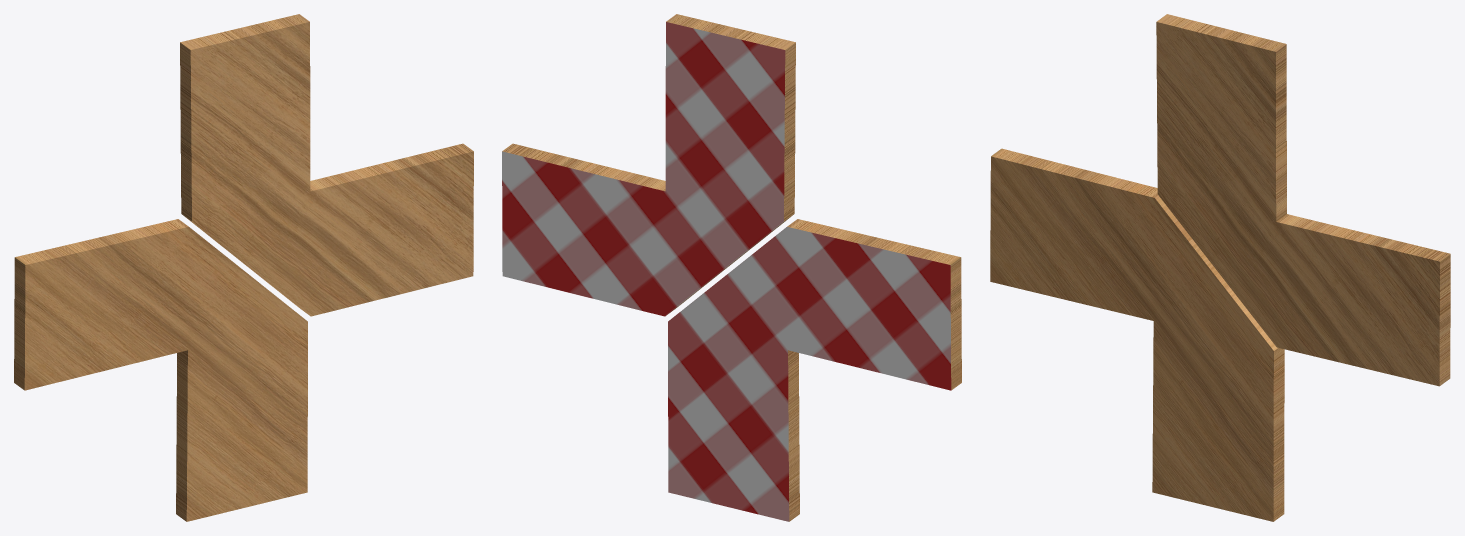
The model's file is crosspiece2.fbx.
3 views of the same model, side by side, from view 1: azimuth 30°, elevation 25°; view 2: azimuth 150°, elevation 25°; view 3: azimuth 330°, elevation 25° (orthographic).
Parts seen in each view (by area): view 1: Circle.003, Circle.004; view 2: Circle.003, Circle.004; view 3: Circle.004, Circle.003.
Boxes of the visible parts, box(x1,y1,x2,y2) form: Circle.003: box(14, 219, 307, 521); Circle.004: box(180, 14, 473, 316); Circle.003: box(668, 219, 961, 521); Circle.004: box(502, 14, 795, 316); Circle.004: box(1156, 14, 1450, 386); Circle.003: box(990, 148, 1284, 521).
Bounding box in the file's own units: 193 × 194 × 8.
Materials: 3 (3 with a texture image).
